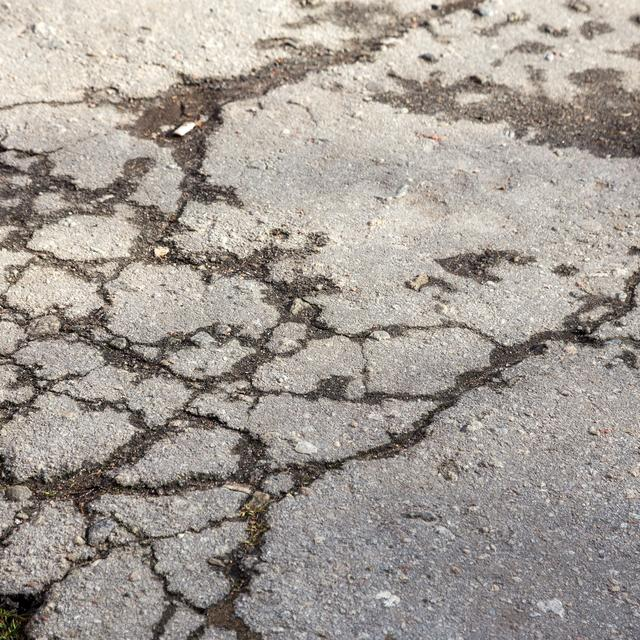retak_kulit_buaya: (0, 106, 317, 640)
